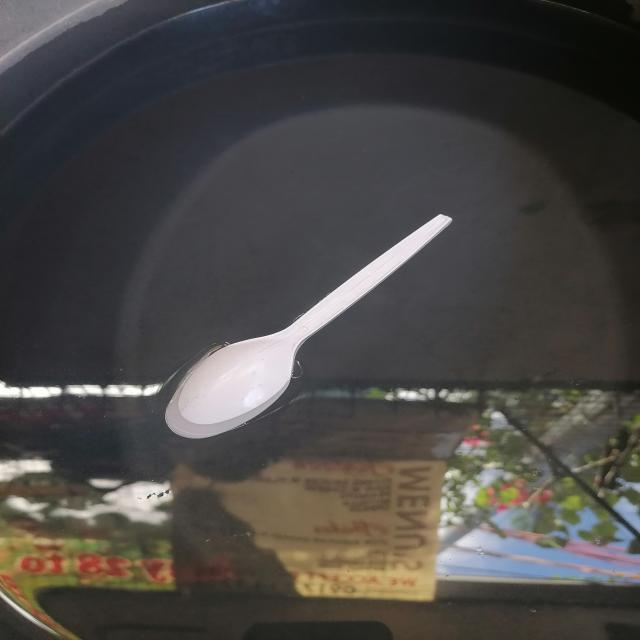Plastic Spoon: (165, 214, 451, 438)
